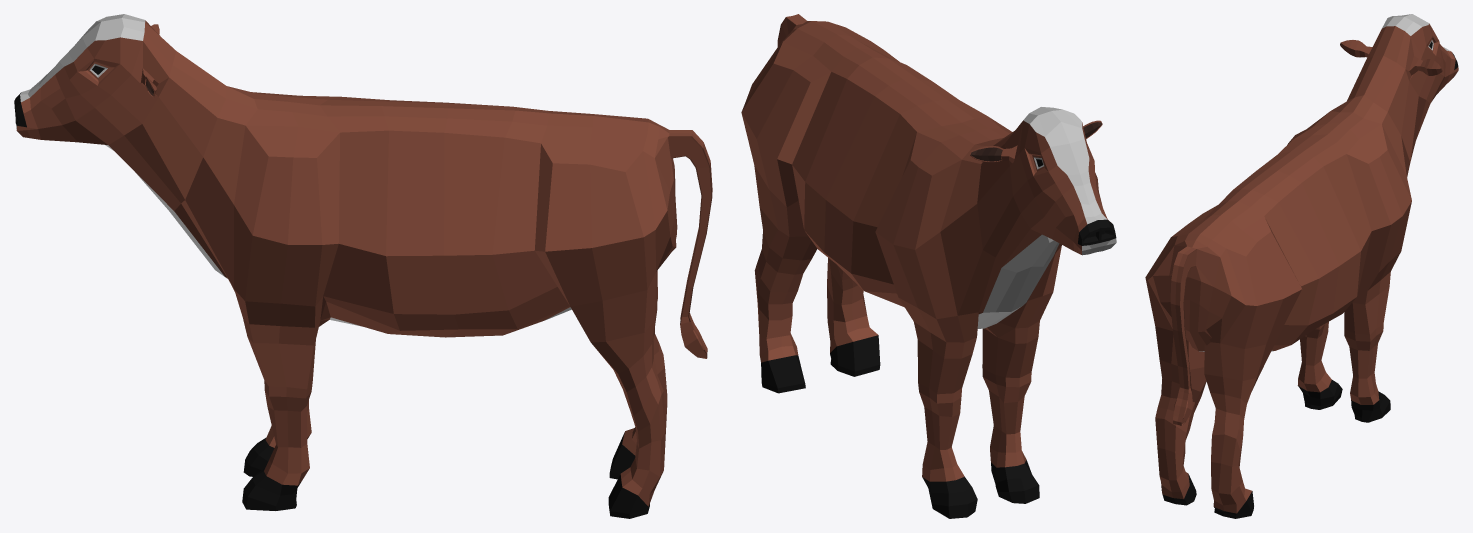
Rendered from Cow_v2.gltf.
3 views of the same model, side by side, from view 1: azimuth 30°, elevation 25°; view 2: azimuth 150°, elevation 25°; view 3: azimuth 270°, elevation 25° (orthographic). The views are drawn at different scales.
Parts seen in each view (by area): view 1: Cube; view 2: Cube; view 3: Cube.
Boxes of the visible parts, box(x1,y1,x2,y2) form: Cube: box(14, 14, 712, 518); Cube: box(741, 14, 1116, 518); Cube: box(1145, 14, 1458, 518).
Bounding box in the file's own units: 3.72 × 3.16 × 2.55.
